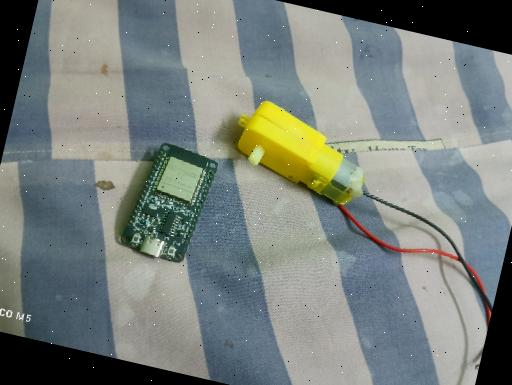Esp32: (116, 135, 222, 268)
Motor: (225, 94, 376, 210)
